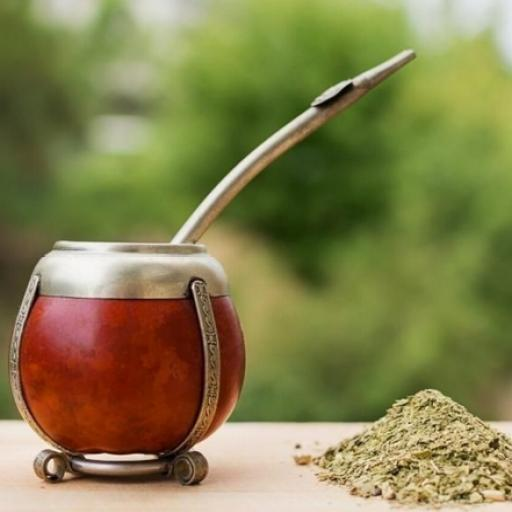mate: (10, 51, 414, 484)
